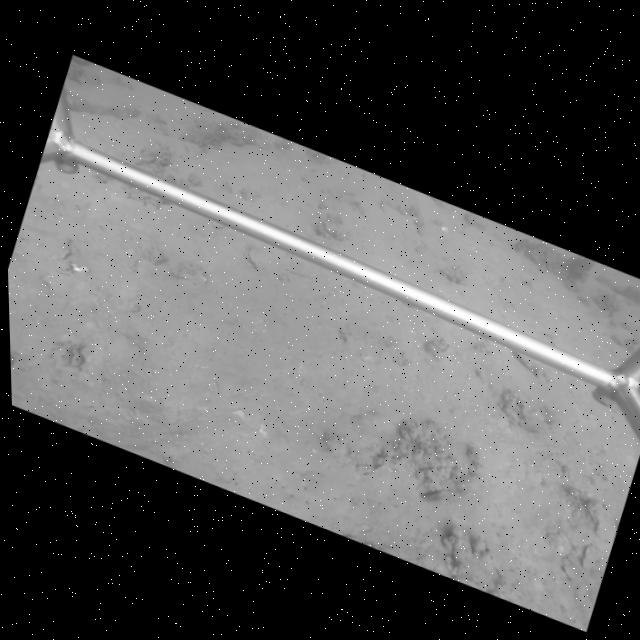Oyster-Closed: (243, 245, 266, 272)
Oyster-Open: (416, 484, 448, 505)
